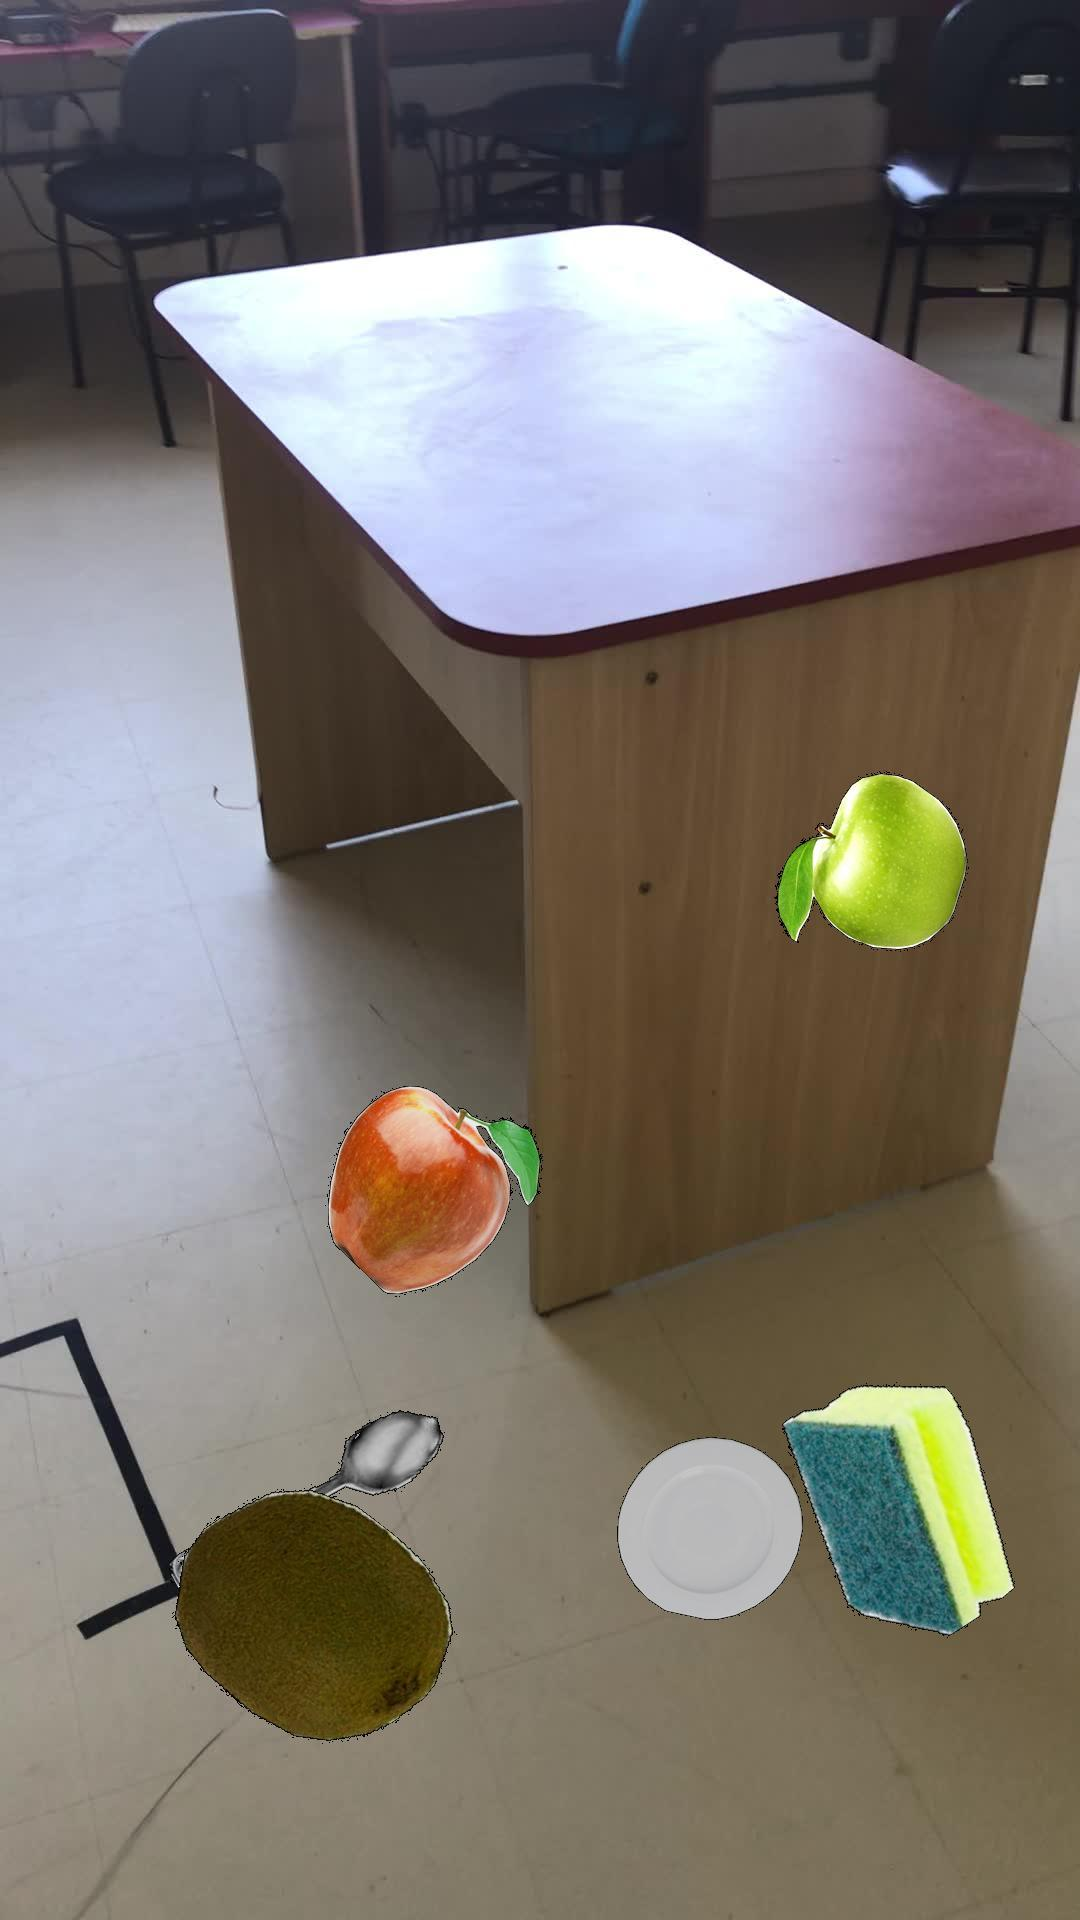green apple: (773, 770, 967, 948)
kiwi: (173, 1489, 451, 1739)
plate: (616, 1436, 802, 1618)
sponge: (781, 1382, 1014, 1634)
spoon: (167, 1408, 443, 1588)
